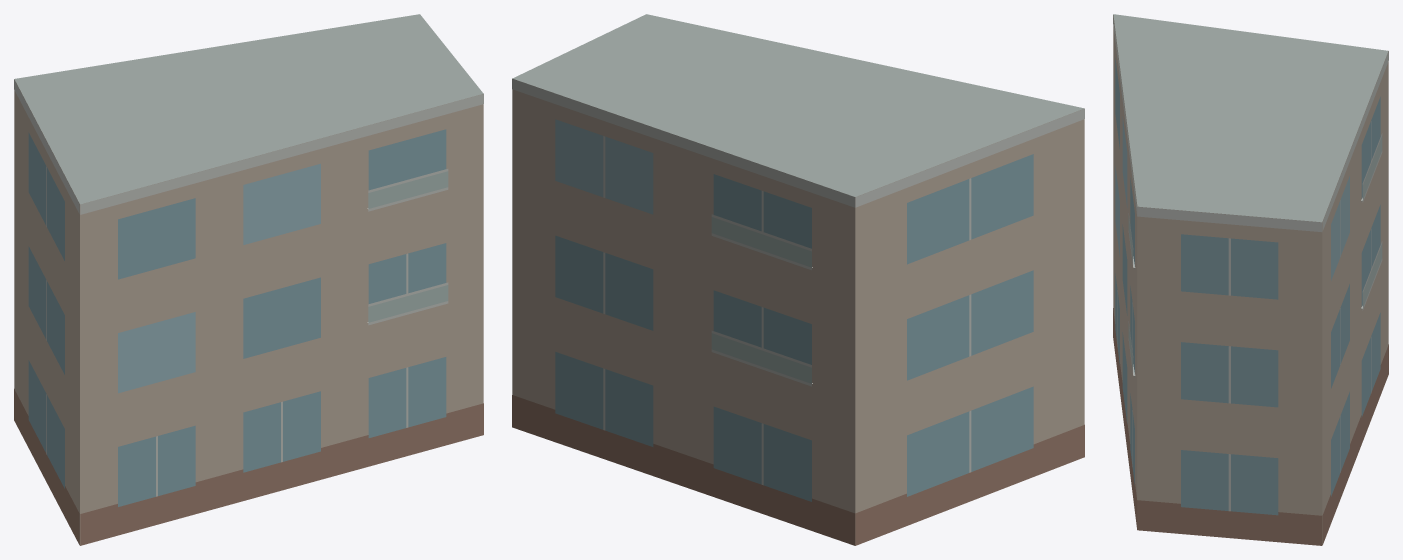
File: survey-upis-32680382.glb
3 renders of one model, left to right at view 1: azimuth 30°, elevation 25°; view 2: azimuth 150°, elevation 25°; view 3: azimuth 270°, elevation 25°, orthographic. The views are drawn at different scales.
Parts seen in each view (by area): view 1: survey-upis-32680382.tmp; view 2: survey-upis-32680382.tmp; view 3: survey-upis-32680382.tmp.
Boxes of the visible parts, x1,y1,x2,y2 form: survey-upis-32680382.tmp: [14, 14, 483, 545]; survey-upis-32680382.tmp: [512, 14, 1084, 545]; survey-upis-32680382.tmp: [1113, 14, 1388, 545].
Bounding box in the file's own units: 10.98 × 7.95 × 6.14.
